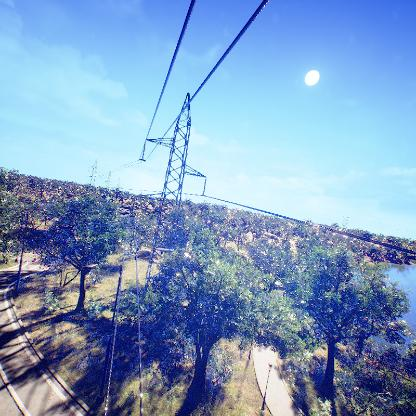tower: (135, 88, 214, 320)
